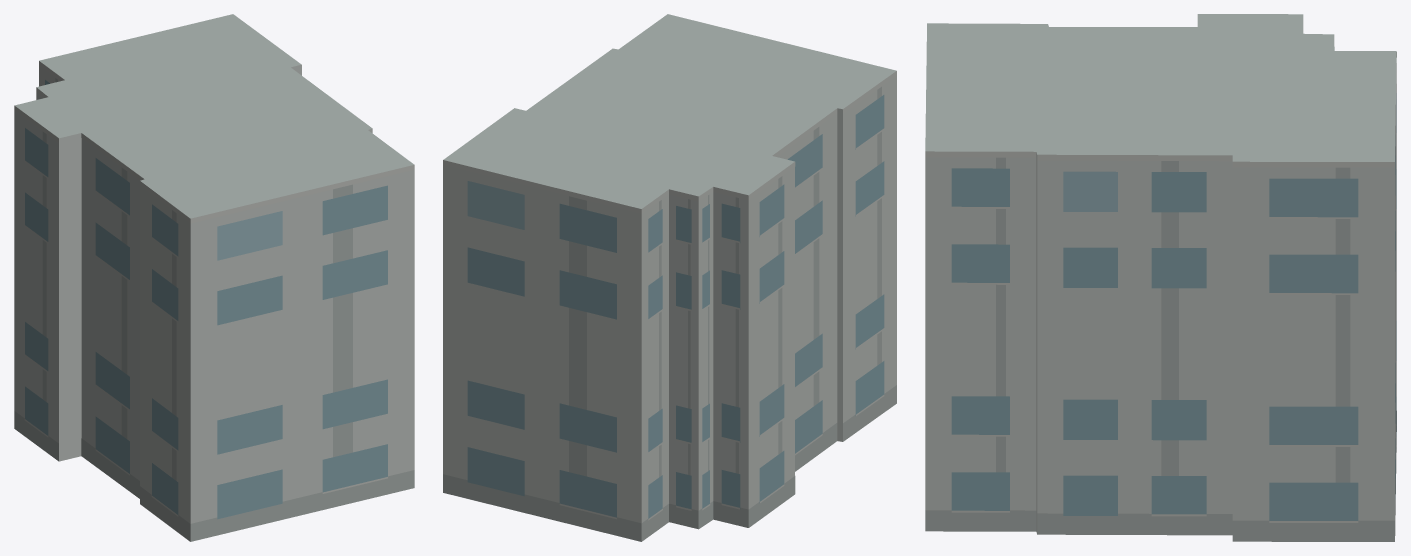
Rendered from survey-upis-32497918.glb.
The picture shows the model from 3 angles, left to right: view 1: azimuth 30°, elevation 25°; view 2: azimuth 150°, elevation 25°; view 3: azimuth 270°, elevation 25°; orthographic projection. The views are drawn at different scales.
Visible parts, largest first — view 1: survey-upis-32497918.tmp; view 2: survey-upis-32497918.tmp; view 3: survey-upis-32497918.tmp.
Part boxes in pixels (bbox=[...]): survey-upis-32497918.tmp: bbox=[14, 14, 414, 541]; survey-upis-32497918.tmp: bbox=[443, 14, 896, 541]; survey-upis-32497918.tmp: bbox=[925, 14, 1396, 541].
Bounding box in the file's own units: 13.3 × 15.9 × 17.89.
